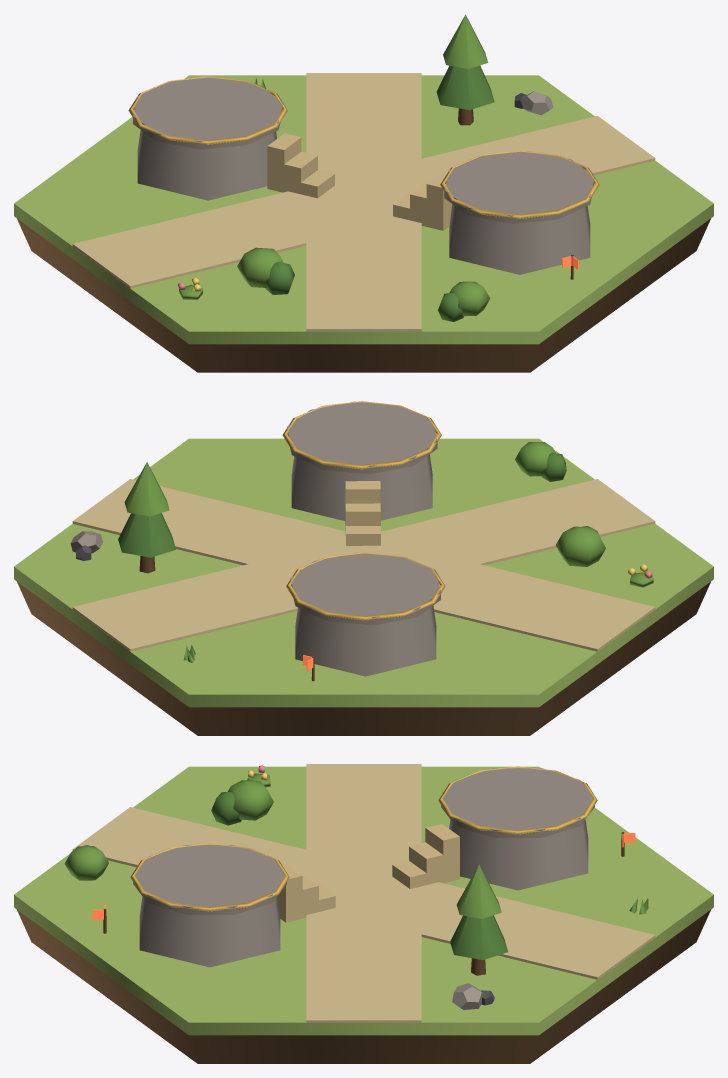
The model's file is tile_crownCross.glb.
3 renders of one model, top to bottom at view 1: azimuth 30°, elevation 25°; view 2: azimuth 150°, elevation 25°; view 3: azimuth 270°, elevation 25°, orthographic.
Parts seen in each view (by area): view 1: ground, road, ground_soil, tower_slot_1_plate, tower_slot_2_plate, tower_slot_2_podest, tower_slot_1_podest, tower_slot_1, tower_slot_2, deco_tree_3_crown, road_hub, deco_tree_3_crown_b (+5 smaller); view 2: ground, road, ground_soil, tower_slot_2_plate, tower_slot_1_plate, tower_slot_1_podest, tower_slot_2_podest, tower_slot_2, deco_tree_3_crown, deco_bush_5_a, deco_tree_3_crown_b, tower_slot_2_trim (+3 smaller); view 3: ground, road, ground_soil, tower_slot_2_plate, tower_slot_1_plate, tower_slot_2_podest, tower_slot_1_podest, tower_slot_1, tower_slot_2, deco_tree_3_crown, deco_tree_3_crown_b, deco_bush_5_a (+5 smaller).
Boxes of the visible parts, x1,y1,x2,y2 form: ground: (14,75,713,344); road: (72,73,655,331); ground_soil: (17,218,710,372); tower_slot_1_plate: (133,77,283,149); tower_slot_2_plate: (444,151,594,223); tower_slot_2_podest: (449,204,590,274); tower_slot_1_podest: (137,130,276,200); tower_slot_1: (267,133,334,198); tower_slot_2: (393,171,451,230); deco_tree_3_crown: (436,65,494,110); road_hub: (308,179,414,225); deco_tree_3_crown_b: (443,14,488,68); ground: (14,438,713,707); road: (72,479,655,651); ground_soil: (17,582,710,735); tower_slot_2_plate: (287,401,437,474); tower_slot_1_plate: (290,552,440,625); tower_slot_1_podest: (295,606,436,676); tower_slot_2_podest: (291,454,432,520); tower_slot_2: (345,481,380,545); deco_tree_3_crown: (118,513,175,557); deco_bush_5_a: (555,526,605,566); deco_tree_3_crown_b: (124,462,169,516); tower_slot_2_trim: (282,401,441,469); ground: (14,766,713,1035); road: (72,764,655,1022); ground_soil: (17,910,710,1063); tower_slot_2_plate: (133,845,286,914); tower_slot_1_plate: (441,768,594,837); tower_slot_2_podest: (139,896,280,967); tower_slot_1_podest: (449,819,588,890); tower_slot_1: (392,824,459,888); tower_slot_2: (277,863,335,922); deco_tree_3_crown: (450,915,507,959); deco_tree_3_crown_b: (456,864,501,918); deco_bush_5_a: (227,780,273,820).
Size of the model in its own units: 1.73 by 0.4913 by 2.
